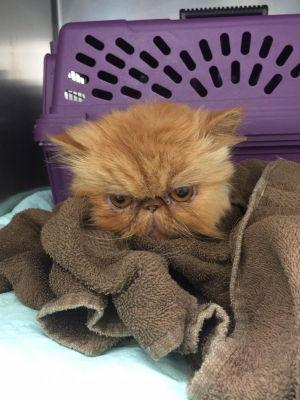persian: (40, 100, 243, 256)
